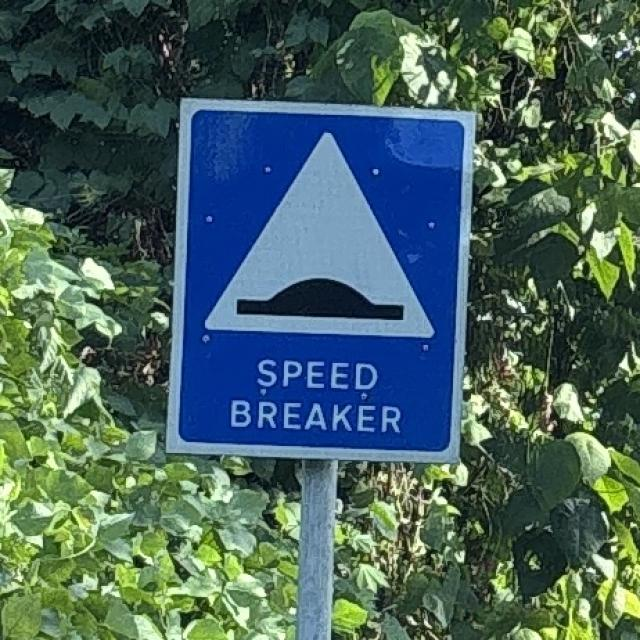HUMP_OR_ROUGH_ROAD: (160, 99, 481, 466)
